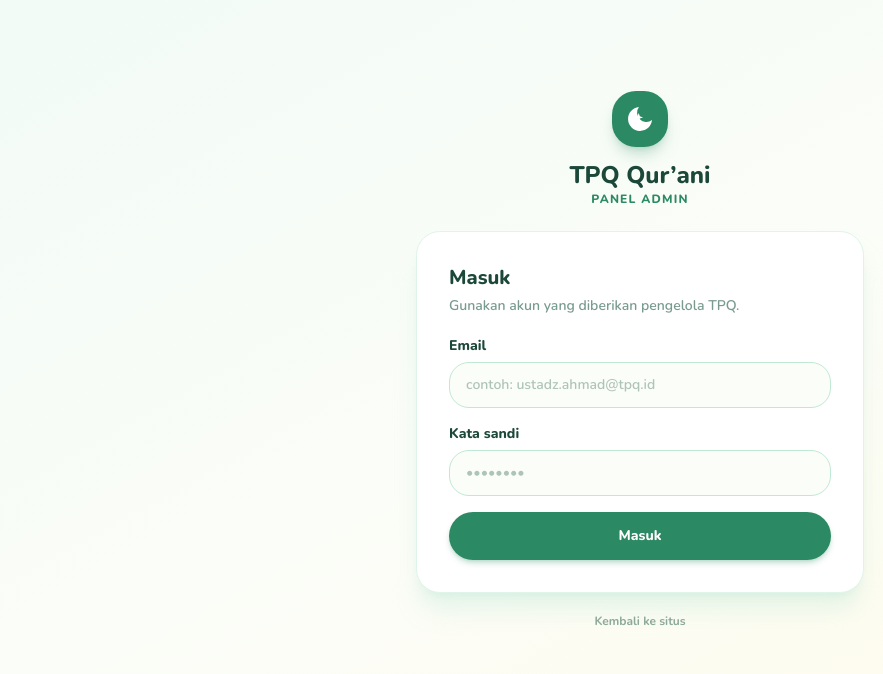
Admin login page › shows the exact API message once on 401
The image size is (883, 674).
Type "admin@tpq-qurani.example.id" into the field labelled "Email" at {"x": 640, "y": 385}, box [449,362,831,408]
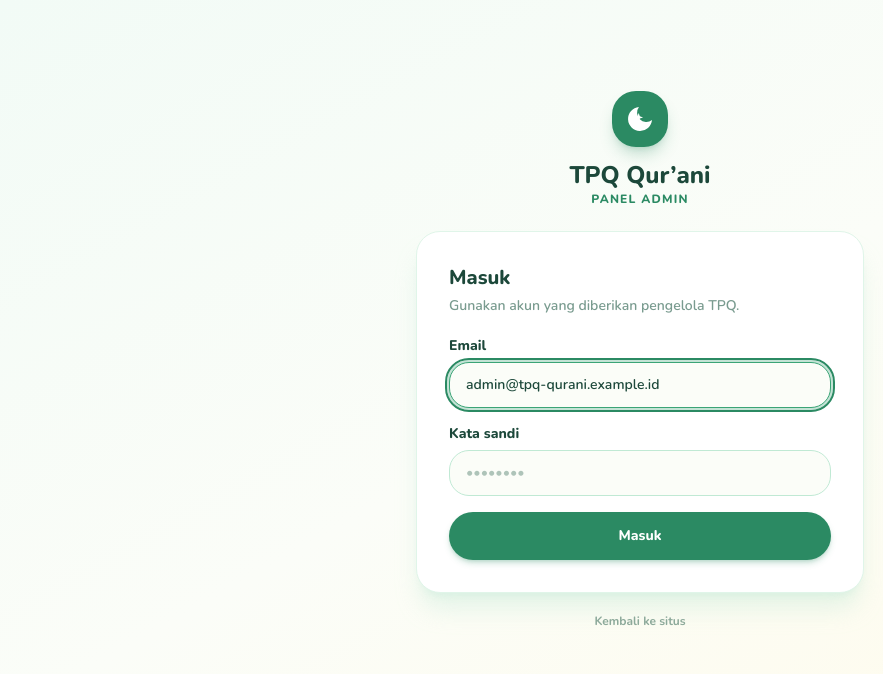
Type "secret123" into the password field labelled "Kata sandi" at {"x": 640, "y": 473}, box [449,450,831,496]
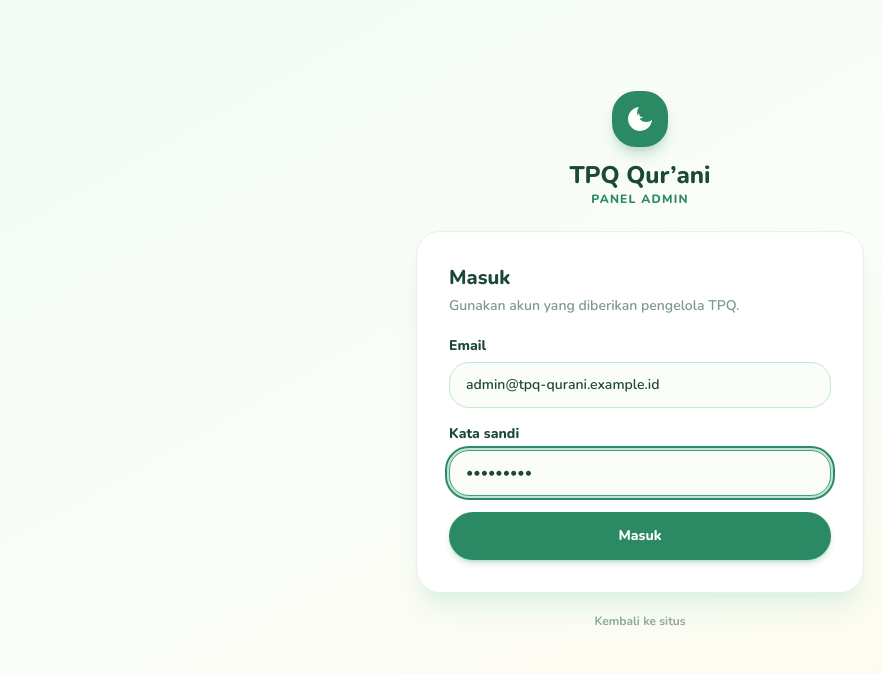
Click the button "Masuk" at {"x": 640, "y": 536}, box [449,512,831,560]
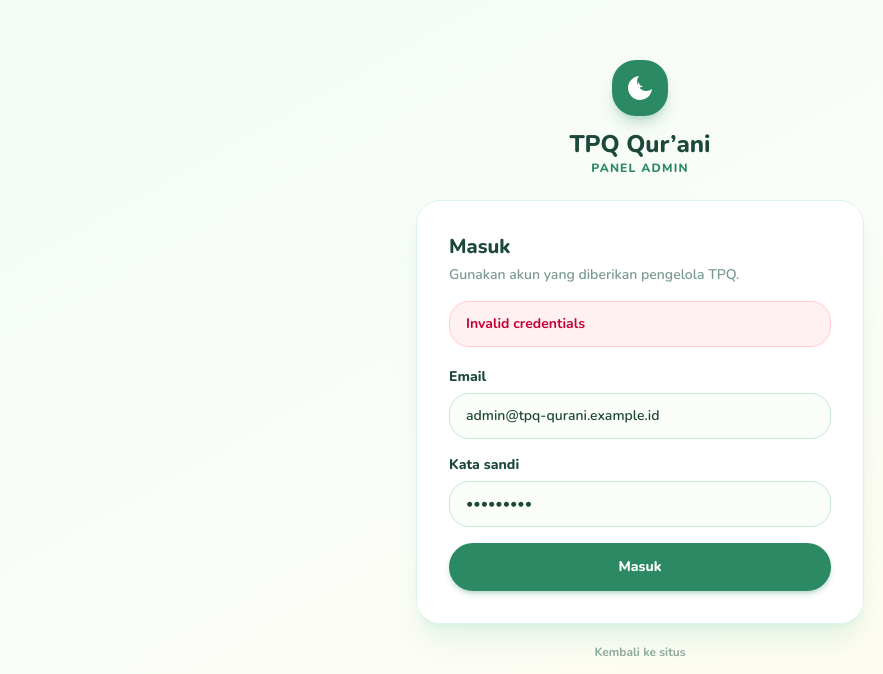
Result: the message reads "Invalid credentials" at [466,314,585,333]
Result: the text "Invalid credentials" is shown once at [449,301,831,347]
